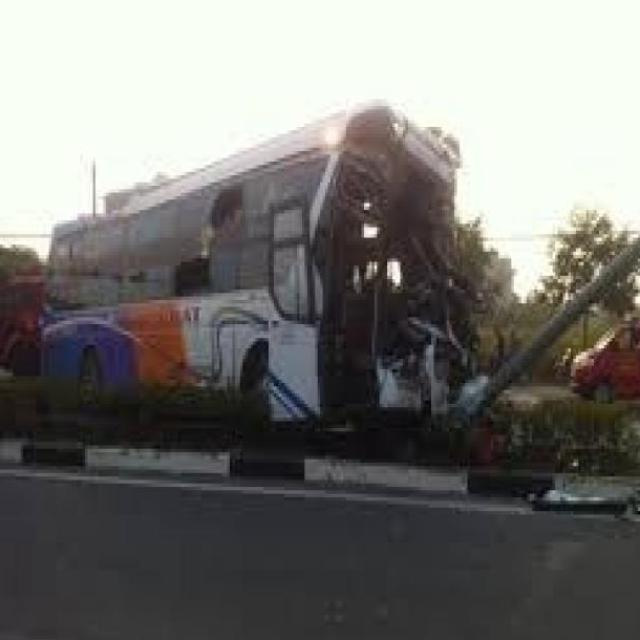accident: (137, 91, 511, 449)
